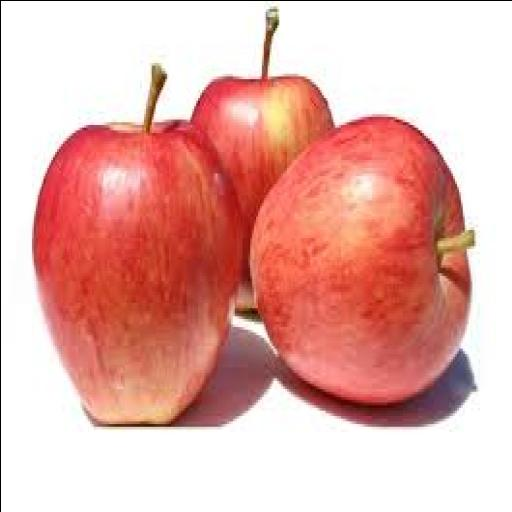apple: (34, 66, 242, 424), (251, 117, 474, 402), (193, 10, 333, 310)
